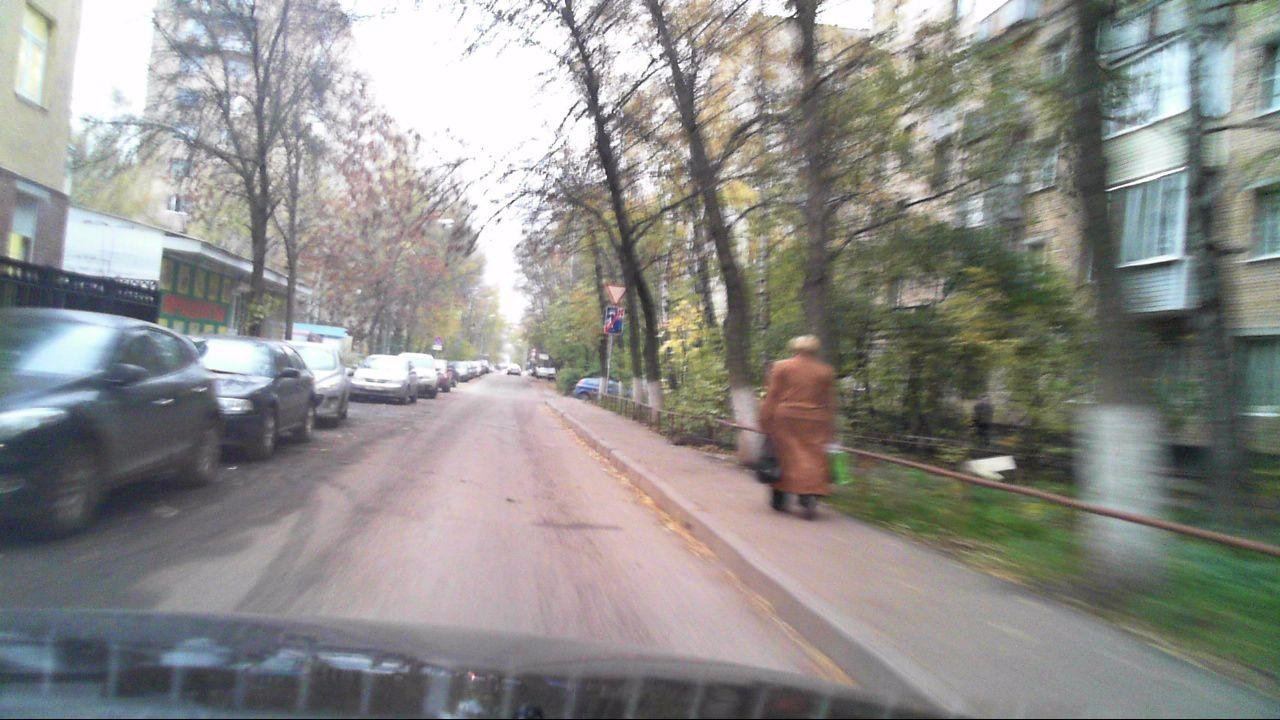2_4: (604, 282, 628, 305)
3_27: (434, 336, 444, 345)
5_22: (604, 308, 623, 333)
